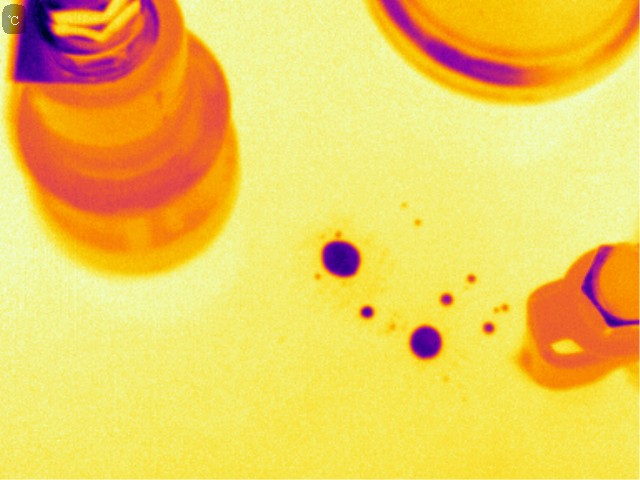Water: (320, 239, 362, 280), (410, 319, 441, 363), (439, 289, 457, 310), (359, 302, 374, 319), (481, 319, 493, 337), (492, 301, 509, 312), (409, 217, 423, 229), (468, 271, 476, 284)
